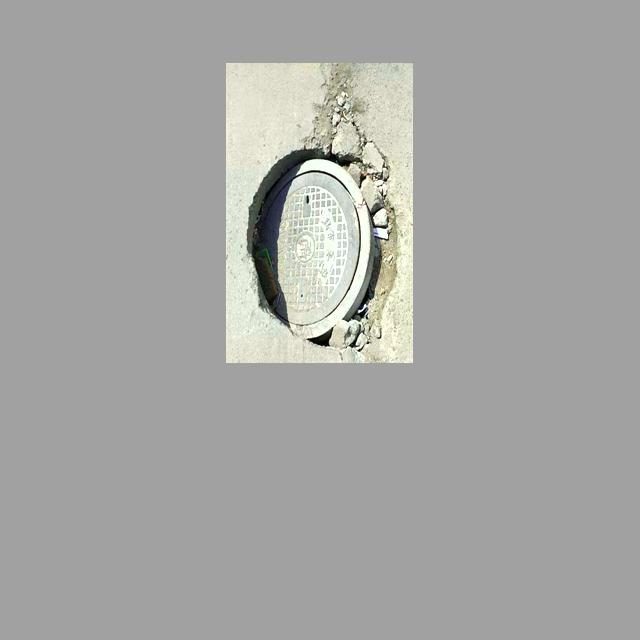circle: (248, 86, 395, 344)
